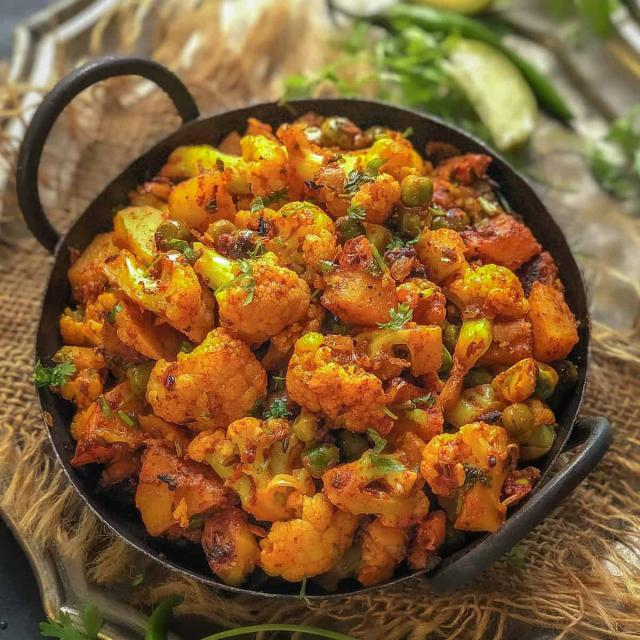Aloo Gobi: (142, 207, 499, 528)
